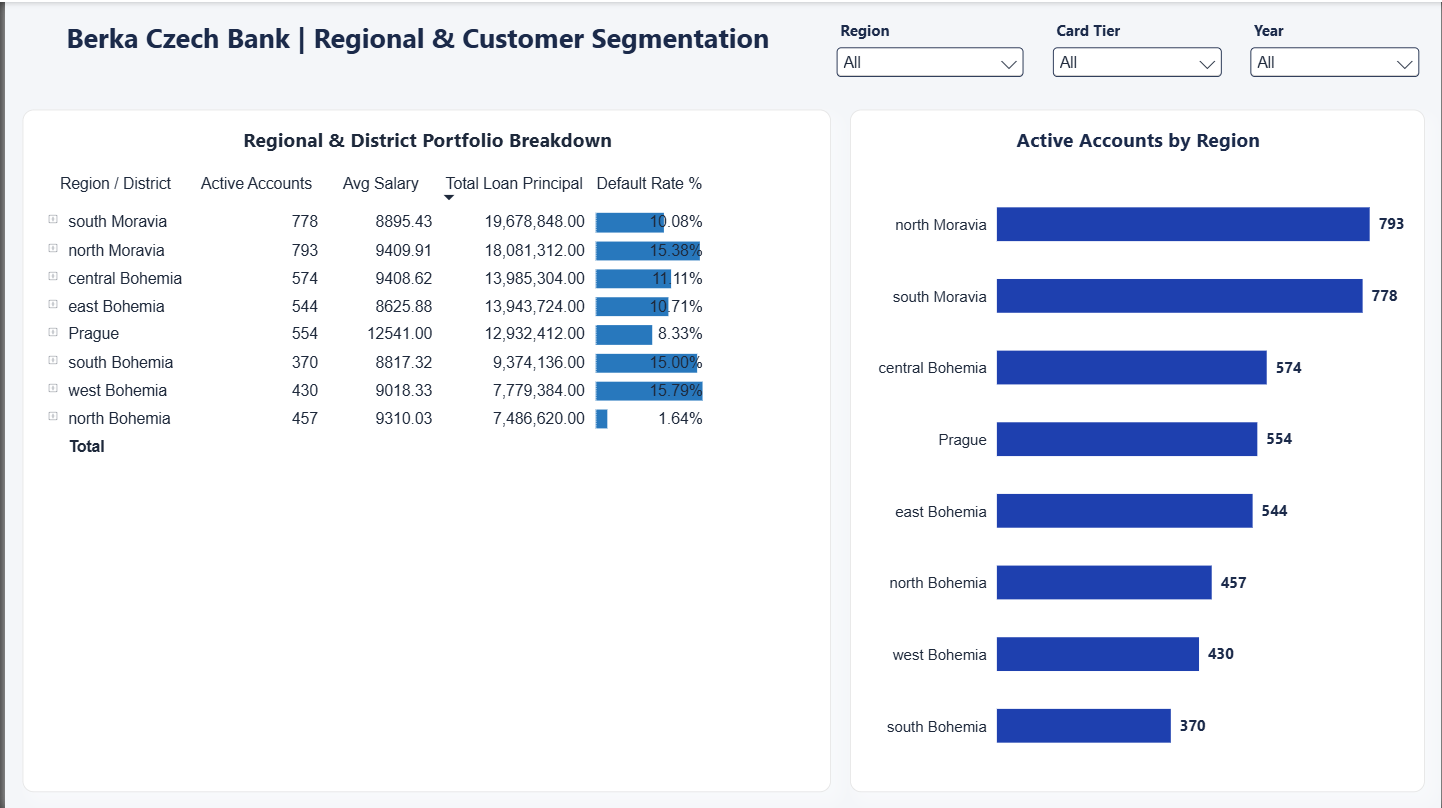

The page's visual inventory and layout, read from the dashboard file:
{"tool":"powerbi","page":{"name":"Regional & Customer Segments","canvas":[1280,720],"ordinal":2},"visuals":[{"type":"textbox","box":[16,16,704,64],"z":0},{"type":"slicer","fields":{"Values":["DimDate.Year"]},"box":[1104,16,160,64],"z":1000},{"type":"slicer","fields":{"Values":["vw_account_owner_dim.card_type"]},"box":[928,16,160,64],"z":2000},{"type":"slicer","fields":{"Values":["vw_account_owner_dim.region"]},"box":[736,16,176,64],"z":3000},{"type":"pivotTable","title":"Regional & District Portfolio Breakdown","fields":{"Rows":["vw_account_owner_dim.region","vw_account_owner_dim.district_name"],"Values":["_Measures.Active Accounts","Avg(vw_account_owner_dim.district_avg_salary)","_Measures.Total Loan Principal","_Measures.Default Rate %"]},"box":[16,96,720,608],"z":4000},{"type":"clusteredBarChart","title":"Active Accounts by Region","fields":{"Category":["vw_account_owner_dim.region"],"Y":["_Measures.Active Accounts"]},"box":[752,96,512,608],"z":5000}]}

Visuals, with their boxes in screenshot pixels (x1, y1, x2, y2), scaled from the page's 1280x720 canvas onto the 1442x808 screenshot:
textbox: <region>18, 18, 811, 90</region>
slicer - DimDate.Year: <region>1244, 18, 1424, 90</region>
slicer - vw_account_owner_dim.card_type: <region>1045, 18, 1226, 90</region>
slicer - vw_account_owner_dim.region: <region>829, 18, 1027, 90</region>
"Regional & District Portfolio Breakdown" pivotTable: <region>18, 108, 829, 790</region>
"Active Accounts by Region" clusteredBarChart: <region>847, 108, 1424, 790</region>
